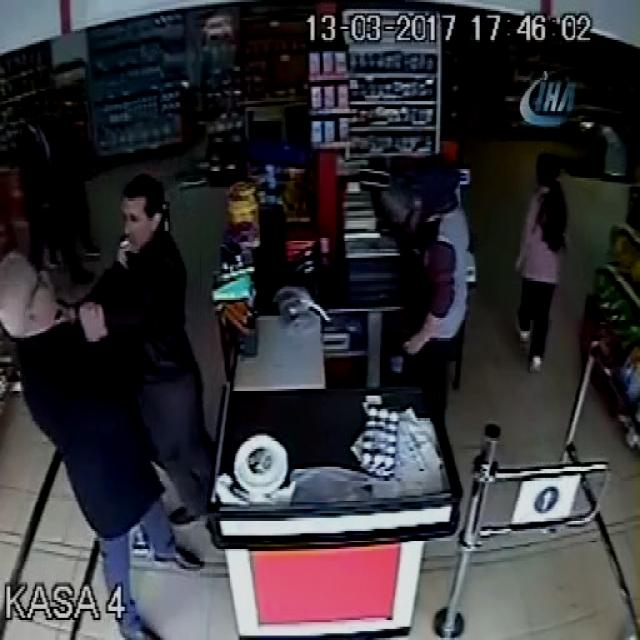fight: (0, 173, 198, 640)
